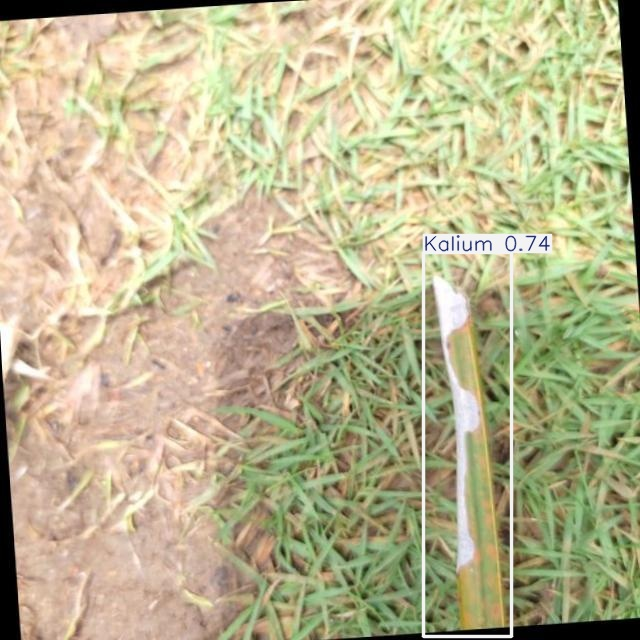Kalium: (423, 253, 512, 636)
